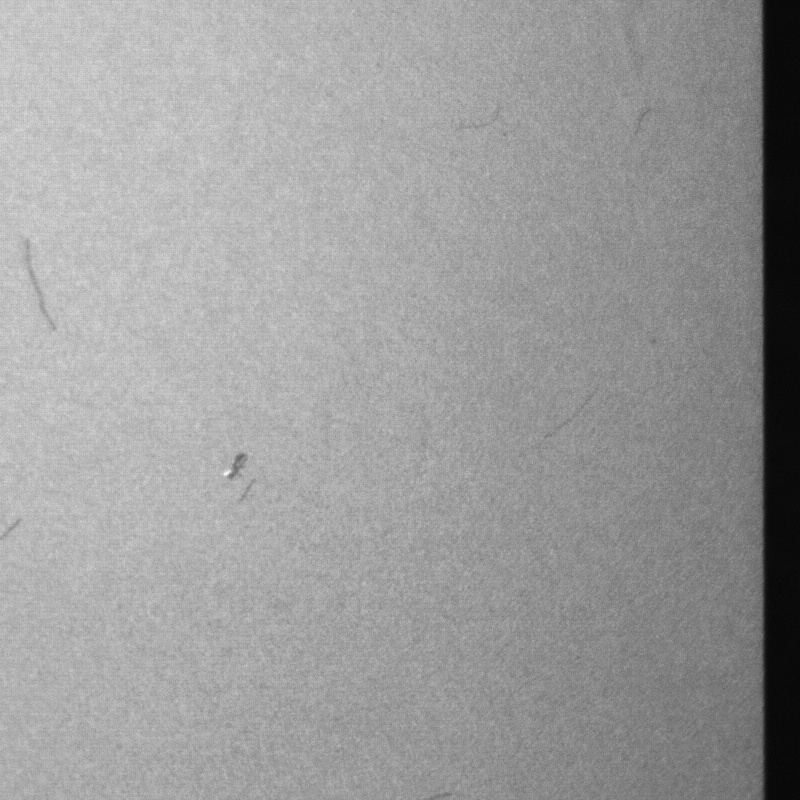defect: (26, 237, 61, 340), (541, 386, 597, 445), (224, 447, 259, 506), (463, 109, 502, 133), (1, 516, 25, 544), (630, 108, 653, 133)
